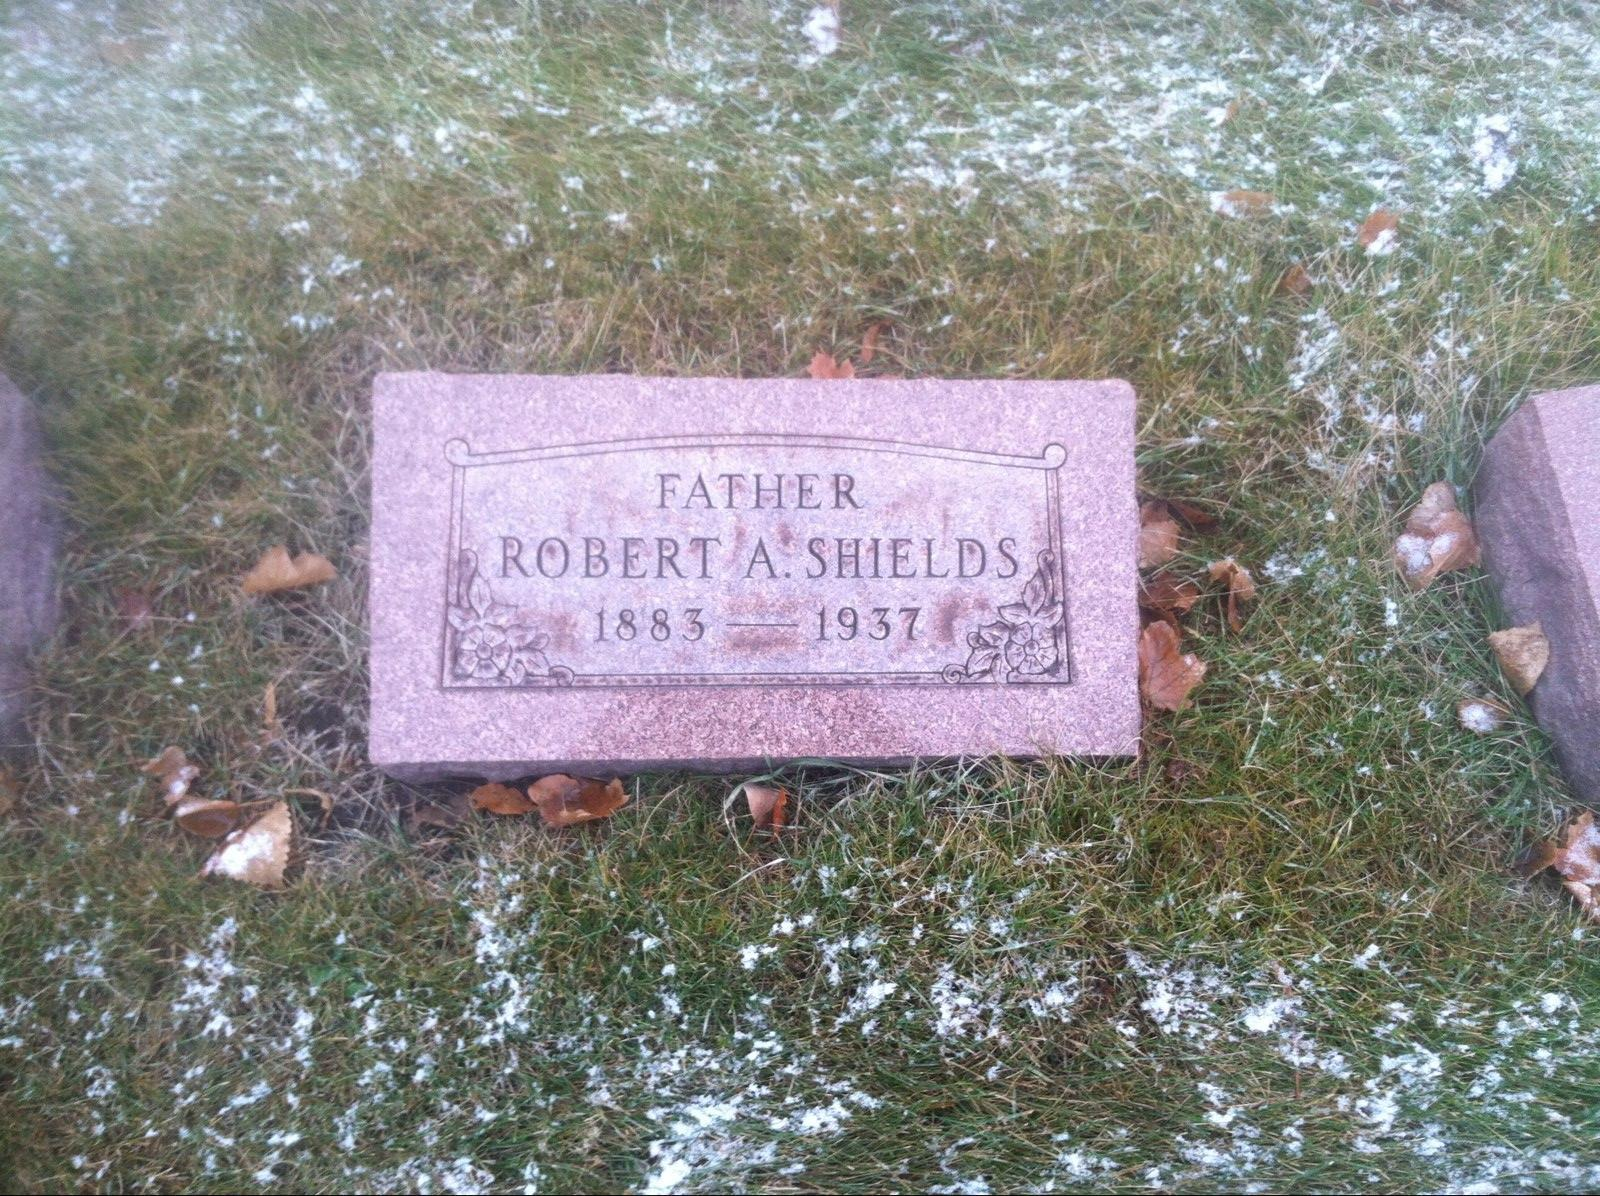flat: (364, 364, 1148, 770)
